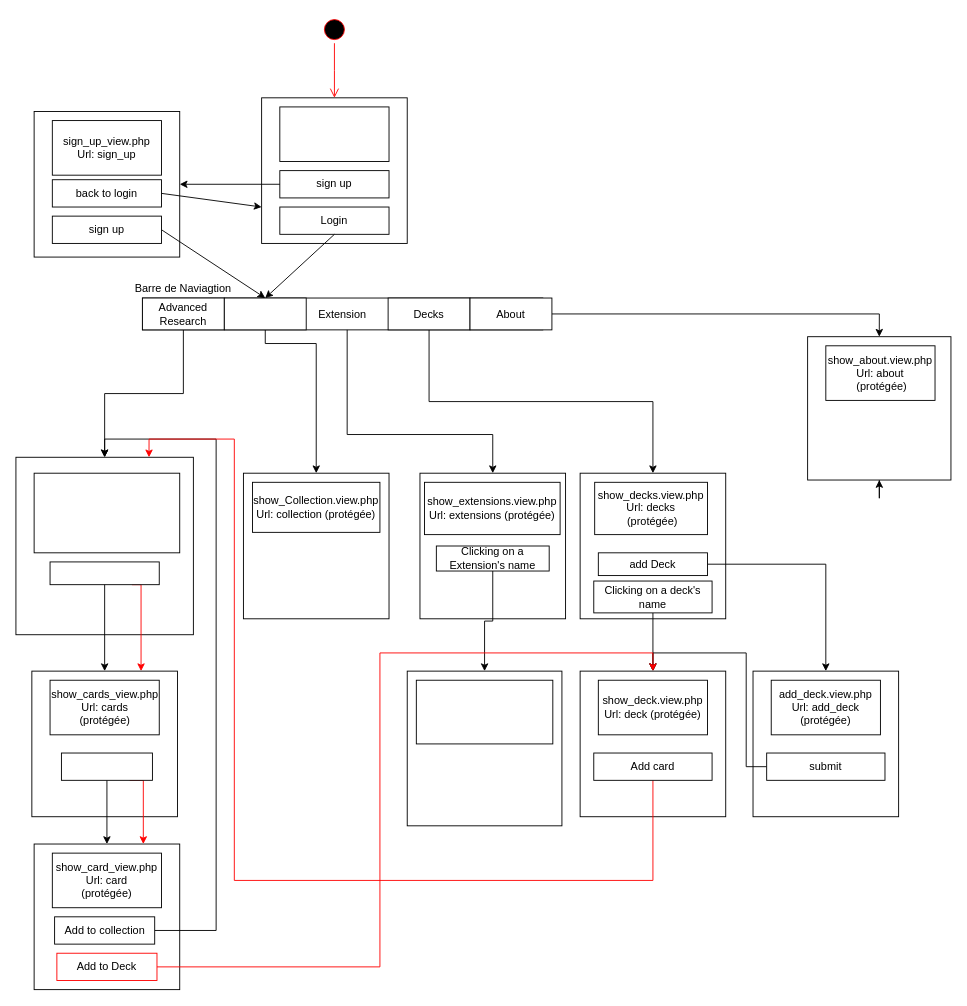
The diagram is 967 pixels wide and 1006 high, and some of its shapes have lost their labels. The shapes that lost their labels are listed below. From the top down, each one's centre as x and y in pixels, then its label:
At pixel 334 134: "index_view.php Url: vide".
At pixel 264 313: "Collection".
At pixel 106 512: "advanced_research.view.php Url: advanced_reseach (protégée)".
At pixel 104 573: "search".
At pixel 484 711: "show_extension.view.php Url: extension (protégée)".
At pixel 106 766: "Clicking on a card's ID".
